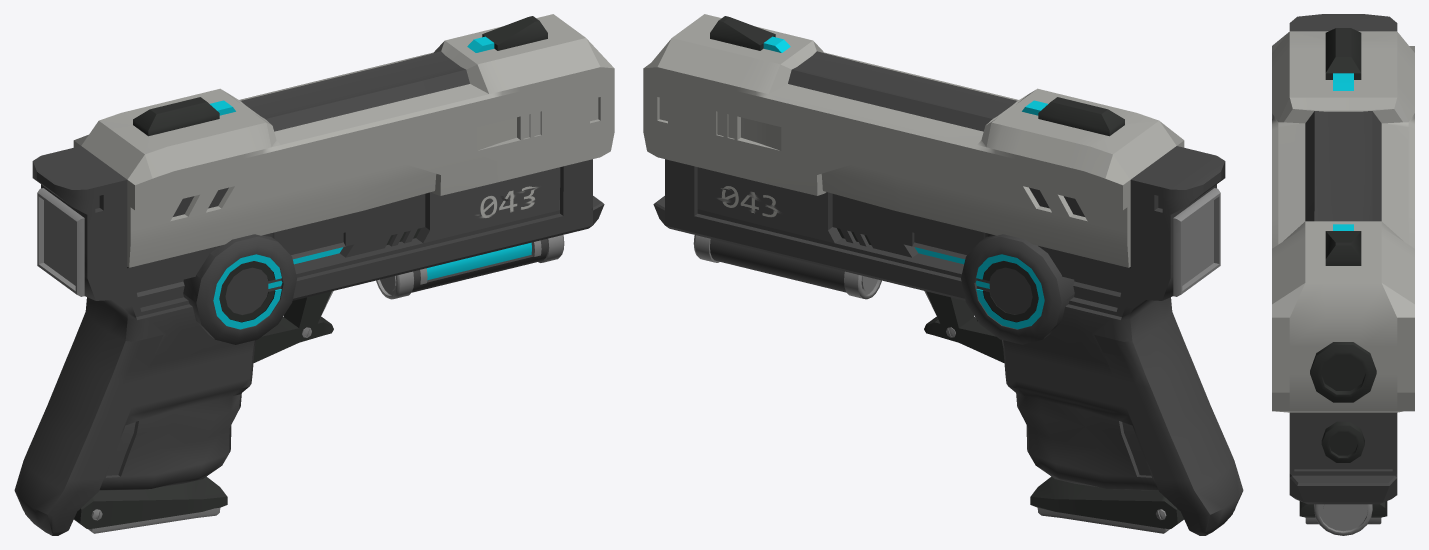
File: Pistol.fbx
3 renders of one model, left to right at view 1: azimuth 30°, elevation 25°; view 2: azimuth 150°, elevation 25°; view 3: azimuth 270°, elevation 25°, orthographic. The views are drawn at different scales.
Visible parts, largest first — view 1: COMBINED_Pistol_WIP:pasted__pCylinder3; view 2: COMBINED_Pistol_WIP:pasted__pCylinder3; view 3: COMBINED_Pistol_WIP:pasted__pCylinder3.
Part boxes in pixels (<box>): COMBINED_Pistol_WIP:pasted__pCylinder3: <box>14,14,614,535</box>; COMBINED_Pistol_WIP:pasted__pCylinder3: <box>643,14,1243,535</box>; COMBINED_Pistol_WIP:pasted__pCylinder3: <box>1272,14,1414,535</box>.
Size of the model in its own units: 22.68 by 15.51 by 4.28.
7 materials, 1 textured.
